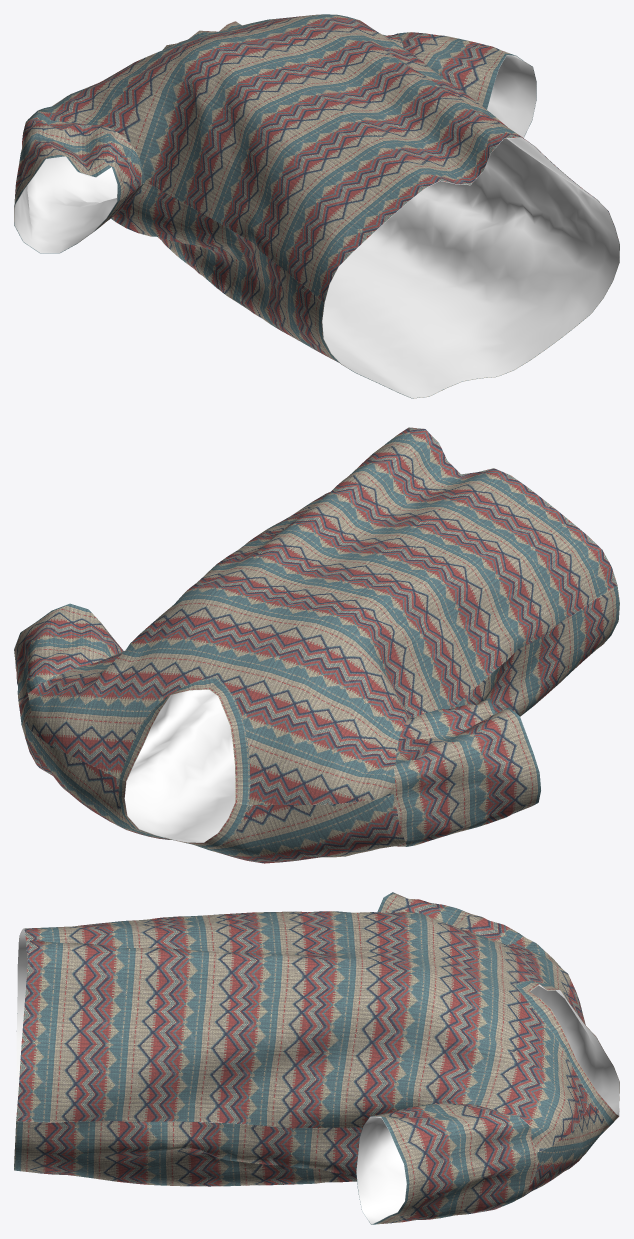
Rendered from female_skn.glb.
3 views of the same model, one above another, from view 1: azimuth 30°, elevation 25°; view 2: azimuth 150°, elevation 25°; view 3: azimuth 270°, elevation 25° (orthographic).
Visible parts, largest first — view 1: female_skn; view 2: female_skn; view 3: female_skn.
Boxes of the visible parts, <box> form: female_skn: <box>14,14,619,398</box>; female_skn: <box>14,427,619,863</box>; female_skn: <box>14,892,619,1224</box>.
Size of the model in its own units: 0.5998 by 0.2556 by 0.6018.
2 materials, 1 textured.
